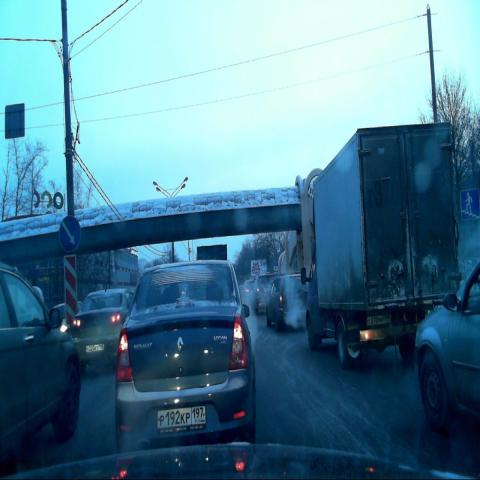6_7: (460, 188, 478, 223)
